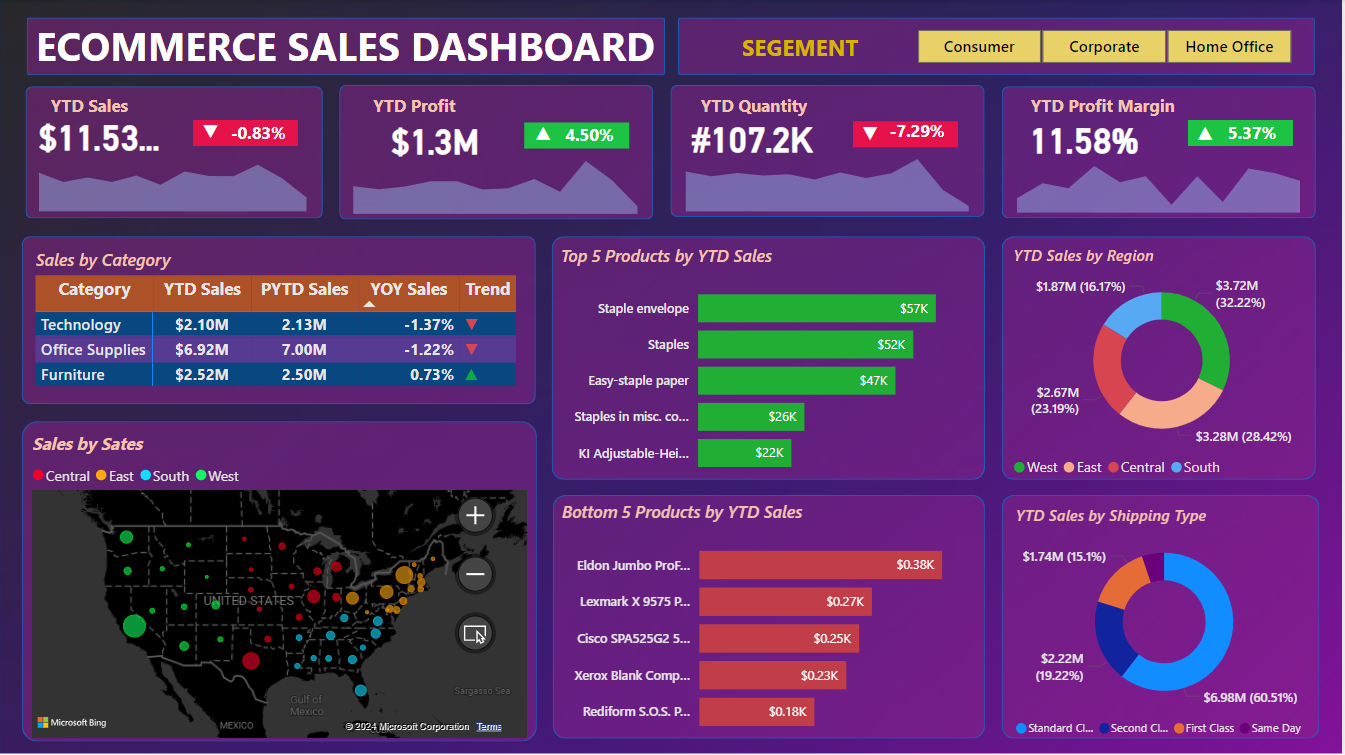

Layout of this report page (visuals, bound fields, positions):
{"tool":"powerbi","page":{"name":"Ecommerece","canvas":[1280,720],"ordinal":0},"visuals":[{"type":"shape","box":[26.9,17.1,607.9,54.9],"z":0},{"type":"textbox","box":[30.5,13.4,628.7,64.7],"z":1000},{"type":"shape","box":[26,81.8,283.1,126],"z":2000},{"type":"card","fields":{"Values":["ecommerce_data.YTD Sales"]},"box":[30.5,102.5,130.6,53.7],"z":3000},{"type":"areaChart","fields":{"Category":["Calendar.Month"],"Y":["Sum(ecommerce_data.sales_per_order)"]},"box":[24.4,135.5,283.2,70.8],"z":4000},{"type":"shape","box":[186,114,100,24.4],"z":5000},{"type":"card","fields":{"Values":["ecommerce_data.YOY Sales"]},"box":[209.3,114,76.7,28],"z":6000},{"type":"card","fields":{"Values":["ecommerce_data.Sales Icon"]},"box":[164.8,112.3,76.9,29.3],"z":7000},{"type":"textbox","box":[45.2,84.2,101.3,31.7],"z":8000},{"type":"shape","box":[640.9,80.6,299.1,125.7],"z":9000},{"type":"card","fields":{"Values":["ecommerce_data.YTD Concatenated Qty"]},"box":[648.2,105,141.6,52.5],"z":10000},{"type":"areaChart","fields":{"Category":["Calendar.Month"],"Y":["Sum(ecommerce_data.order_quantity)"]},"box":[640.9,135.5,299.1,70.8],"z":11000},{"type":"shape","box":[814.3,115.3,100,24.4],"z":12000},{"type":"card","fields":{"Values":["ecommerce_data.YOY Qty"]},"box":[837.4,113.5,76.9,28.1],"z":13000},{"type":"card","fields":{"Values":["ecommerce_data.Qty Icon"]},"box":[793.4,114.7,75.7,29.3],"z":14000},{"type":"textbox","box":[664.5,84.4,129,31.4],"z":15000},{"type":"shape","box":[955.8,81.8,299.1,125.7],"z":16000},{"type":"areaChart","fields":{"Category":["Calendar.Month"],"Y":["ecommerce_data.Profit Margin"]},"box":[955.8,136.7,299.1,70.8],"z":17000},{"type":"shape","box":[1132.8,114.7,100.1,24.4],"z":18000},{"type":"card","fields":{"Values":["ecommerce_data.YOY Profit Margin"]},"box":[1156,114.7,76.9,26.9],"z":19000},{"type":"card","fields":{"Values":["ecommerce_data.Profit Margin Icon"]},"box":[1112,114.7,75.7,29.3],"z":20000},{"type":"textbox","box":[979,84.2,167.2,31.7],"z":21000},{"type":"card","fields":{"Values":["ecommerce_data.YTD Profit Margin"]},"box":[964.3,105,140.4,53.7],"z":22000},{"type":"shape","box":[23.2,224.6,489.5,159.9],"z":23000},{"type":"shape","box":[324.7,80.6,299.1,128.2],"z":24000},{"type":"card","fields":{"Values":["ecommerce_data.YTD Profit"]},"box":[334.5,106.2,163.6,53.7],"z":25000},{"type":"areaChart","fields":{"Category":["Calendar.Month"],"Y":["Sum(ecommerce_data.profit_per_order)"]},"box":[323.5,137.9,300.3,70.8],"z":26000},{"type":"shape","box":[501.8,116.4,100,24.4],"z":27000},{"type":"card","fields":{"Values":["ecommerce_data.YOY Profit"]},"box":[525,116.4,76.7,27.9],"z":28000},{"type":"card","fields":{"Values":["ecommerce_data.Profit Icon"]},"box":[480.7,114.7,76.9,29.3],"z":29000},{"type":"textbox","box":[352.8,84.2,101.3,34.2],"z":30000},{"type":"pivotTable","title":"Sales by Category","fields":{"Rows":["ecommerce_data.category_name"],"Values":["ecommerce_data.YTD Sales","ecommerce_data.PYTD Sales","ecommerce_data.YOY Sales","ecommerce_data.Sales Icon"]},"box":[30.5,235.6,484.6,148.9],"z":31000},{"type":"shape","box":[23.2,401.6,490.7,305.2],"z":32000},{"type":"map","title":"Sales by Sates","fields":{"Y":["us_state_long_lat_codes.latitude"],"X":["us_state_long_lat_codes.longitude"],"Size":["ecommerce_data.YTD Sales"],"Series":["ecommerce_data.customer_region"]},"box":[26.9,410.1,482.2,296.6],"z":33000},{"type":"shape","box":[527.3,224.6,412.6,231.9],"z":34000},{"type":"shape","box":[528.6,471.2,411.4,231.9],"z":35000},{"type":"barChart","title":"Top 5 Products by YTD Sales","fields":{"Category":["ecommerce_data.product_name"],"Y":["ecommerce_data.YTD Sales"]},"box":[530.6,232.6,411.4,232.6],"z":36000},{"type":"barChart","title":"Bottom 5 Products by YTD Sales","fields":{"Category":["ecommerce_data.product_name"],"Y":["ecommerce_data.YTD Sales"]},"box":[532,476.8,411.4,235.5],"z":37000},{"type":"shape","box":[955.8,224.6,299.1,231.9],"z":38000},{"type":"shape","box":[648.2,17.1,606.7,54.9],"z":39000},{"type":"shape","box":[955.8,471.2,302.7,231.9],"z":40000},{"type":"donutChart","title":"YTD Sales by Region","fields":{"Y":["ecommerce_data.YTD Sales"],"Category":["ecommerce_data.customer_region"]},"box":[961.9,231.9,293,231.9],"z":41000},{"type":"donutChart","title":"YTD Sales by Shipping Type","fields":{"Y":["ecommerce_data.YTD Sales"],"Category":["ecommerce_data.shipping_type"]},"box":[964.3,479.7,293,231.9],"z":42000},{"type":"slicer","fields":{"Values":["ecommerce_data.customer_segment"]},"box":[849.6,22,405.3,45.2],"z":43000},{"type":"textbox","box":[703.1,24.4,146.5,47.6],"z":44000}]}

Visuals, with their boxes in screenshot pixels (x1, y1, x2, y2), scaled from the page's 1280x720 canvas onto the 1345x755 screenshot:
shape: left=28, top=18, right=667, bottom=76
textbox: left=32, top=14, right=693, bottom=82
shape: left=27, top=86, right=325, bottom=218
card - ecommerce_data.YTD Sales: left=32, top=107, right=169, bottom=164
areaChart - Calendar.Month x Sum(ecommerce_data.sales_per_order): left=26, top=142, right=323, bottom=216
shape: left=195, top=120, right=301, bottom=145
card - ecommerce_data.YOY Sales: left=220, top=120, right=301, bottom=149
card - ecommerce_data.Sales Icon: left=173, top=118, right=254, bottom=148
textbox: left=47, top=88, right=154, bottom=122
shape: left=673, top=85, right=988, bottom=216
card - ecommerce_data.YTD Concatenated Qty: left=681, top=110, right=830, bottom=165
areaChart - Calendar.Month x Sum(ecommerce_data.order_quantity): left=673, top=142, right=988, bottom=216
shape: left=856, top=121, right=961, bottom=146
card - ecommerce_data.YOY Qty: left=880, top=119, right=961, bottom=148
card - ecommerce_data.Qty Icon: left=834, top=120, right=913, bottom=151
textbox: left=698, top=89, right=834, bottom=121
shape: left=1004, top=86, right=1319, bottom=218
areaChart - Calendar.Month x ecommerce_data.Profit Margin: left=1004, top=143, right=1319, bottom=218
shape: left=1190, top=120, right=1296, bottom=146
card - ecommerce_data.YOY Profit Margin: left=1215, top=120, right=1296, bottom=148
card - ecommerce_data.Profit Margin Icon: left=1168, top=120, right=1248, bottom=151
textbox: left=1029, top=88, right=1204, bottom=122
card - ecommerce_data.YTD Profit Margin: left=1013, top=110, right=1161, bottom=166
shape: left=24, top=236, right=539, bottom=403
shape: left=341, top=85, right=655, bottom=219
card - ecommerce_data.YTD Profit: left=351, top=111, right=523, bottom=168
areaChart - Calendar.Month x Sum(ecommerce_data.profit_per_order): left=340, top=145, right=655, bottom=219
shape: left=527, top=122, right=632, bottom=148
card - ecommerce_data.YOY Profit: left=552, top=122, right=632, bottom=151
card - ecommerce_data.Profit Icon: left=505, top=120, right=586, bottom=151
textbox: left=371, top=88, right=477, bottom=124
"Sales by Category" pivotTable: left=32, top=247, right=541, bottom=403
shape: left=24, top=421, right=540, bottom=741
"Sales by Sates" map: left=28, top=430, right=535, bottom=741
shape: left=554, top=236, right=988, bottom=479
shape: left=555, top=494, right=988, bottom=737
"Top 5 Products by YTD Sales" barChart: left=558, top=244, right=990, bottom=488
"Bottom 5 Products by YTD Sales" barChart: left=559, top=500, right=991, bottom=747
shape: left=1004, top=236, right=1319, bottom=479
shape: left=681, top=18, right=1319, bottom=76
shape: left=1004, top=494, right=1322, bottom=737
"YTD Sales by Region" donutChart: left=1011, top=243, right=1319, bottom=486
"YTD Sales by Shipping Type" donutChart: left=1013, top=503, right=1321, bottom=746
slicer - ecommerce_data.customer_segment: left=893, top=23, right=1319, bottom=70
textbox: left=739, top=26, right=893, bottom=76
